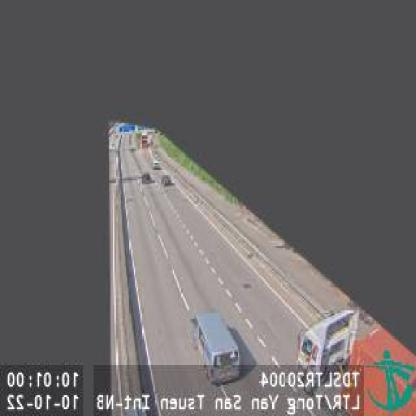Car: (161, 176, 172, 186), (150, 159, 160, 170), (143, 171, 153, 182)
Minibus: (192, 311, 242, 382)
